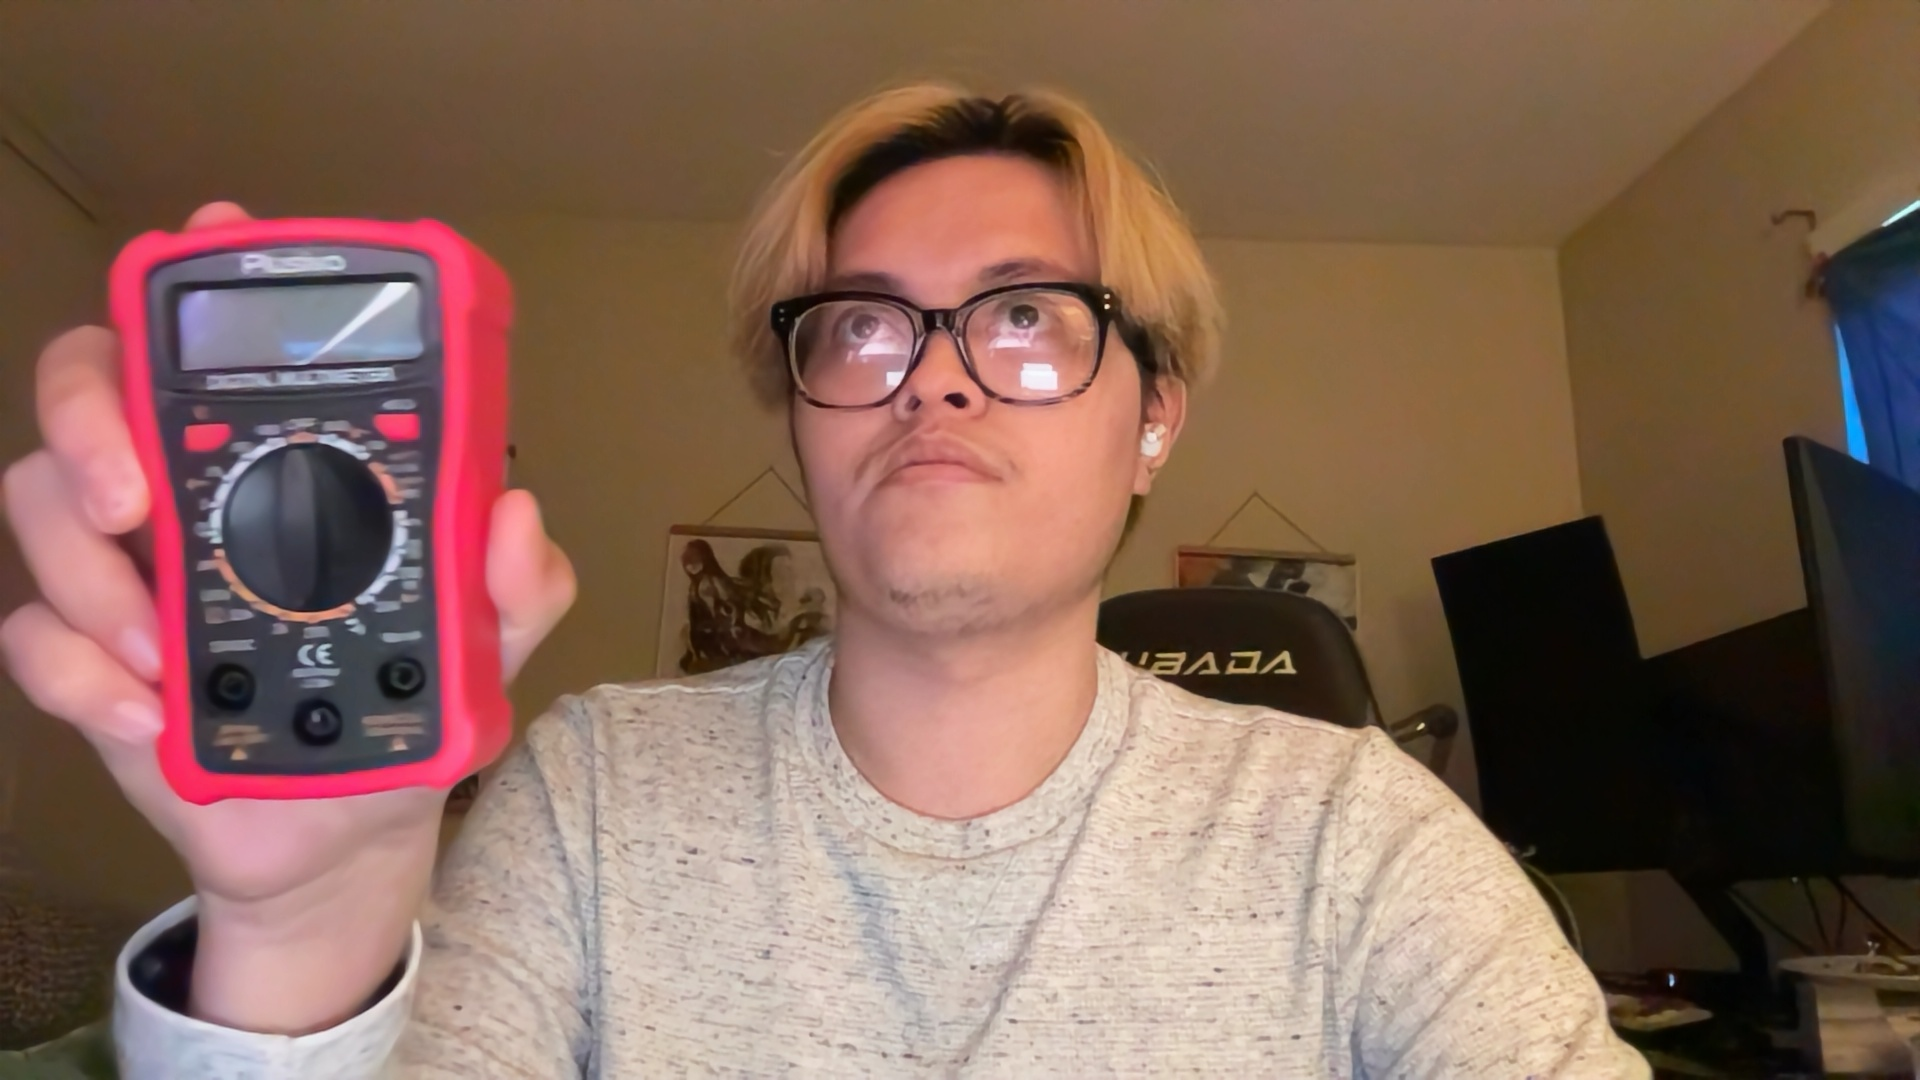multimeter: (91, 203, 535, 810)
